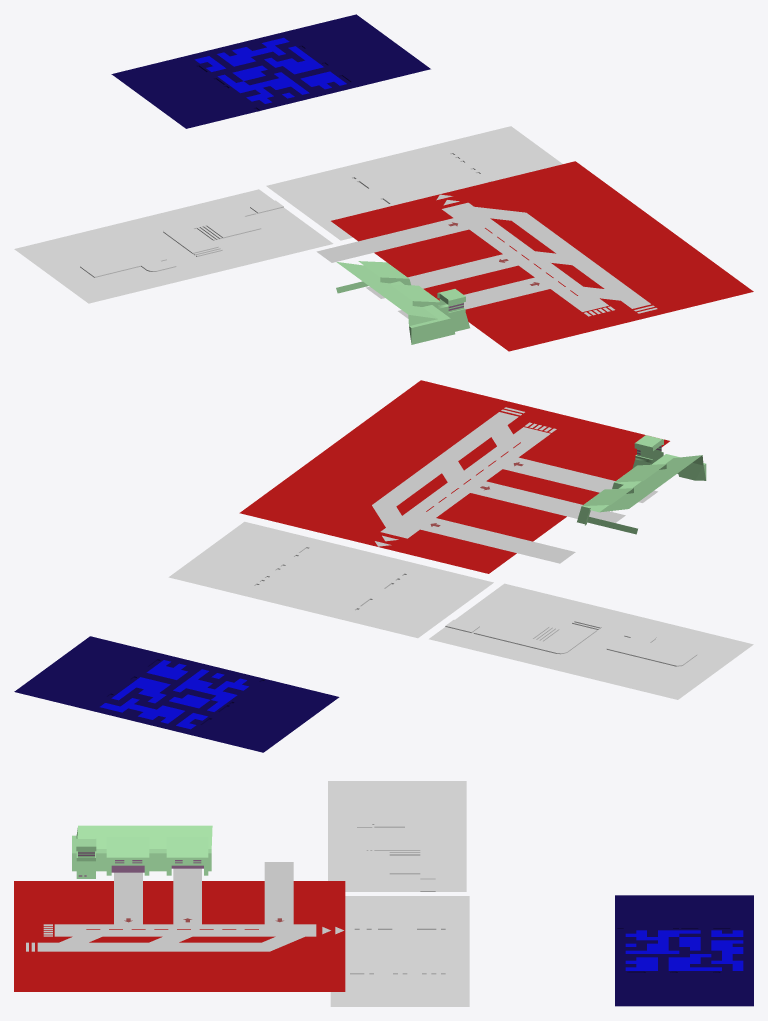
File: floor4.glb
3 renders of one model, top to bottom at view 1: azimuth 30°, elevation 25°; view 2: azimuth 150°, elevation 25°; view 3: azimuth 270°, elevation 25°, orthographic. The views are drawn at different scales.
Parts seen in each view (by area): view 1: floor4, floor1, floor3, floor2, hangar; view 2: floor4, floor2, floor1, floor3, hangar; view 3: floor4, floor1, floor3, floor2, hangar.
Part boxes in pixels (x1,y1,x2,y2): floor4: (316,161,753,351); floor1: (111,14,430,128); floor3: (14,189,333,303); floor2: (266,126,562,240); hangar: (336,261,469,344); floor4: (239,380,669,573); floor2: (168,521,493,638); floor1: (14,636,339,752); floor3: (429,583,753,699); hangar: (577,435,706,534); floor4: (14,862,345,991); floor1: (615,895,753,1006); floor3: (328,781,466,891); floor2: (330,896,469,1006); hangar: (72,825,212,878).
Size of the model in its own units: 77.55 by 7.23 by 107.
